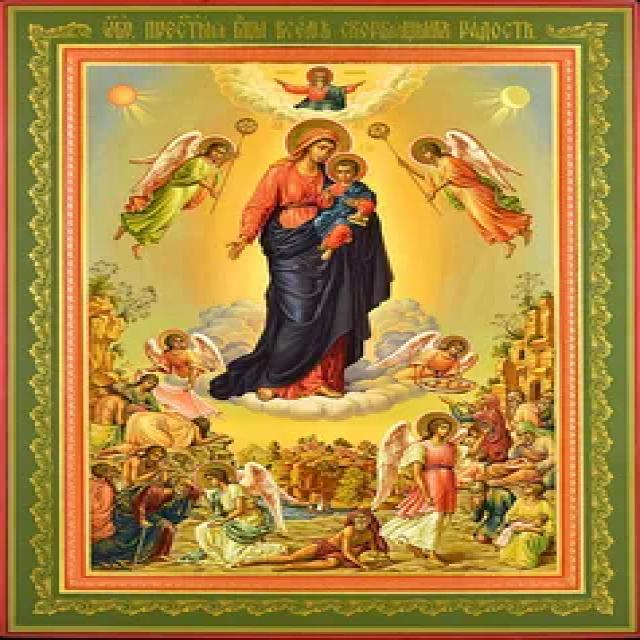mother of god: (228, 116, 394, 408)
